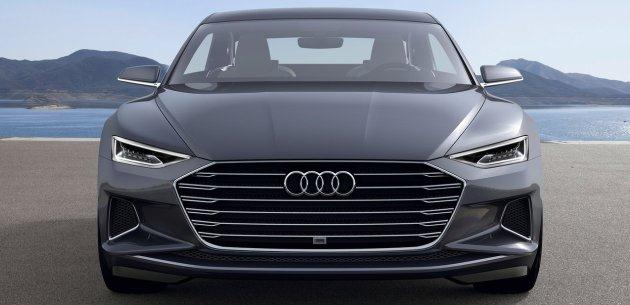audi: (278, 167, 358, 199)
